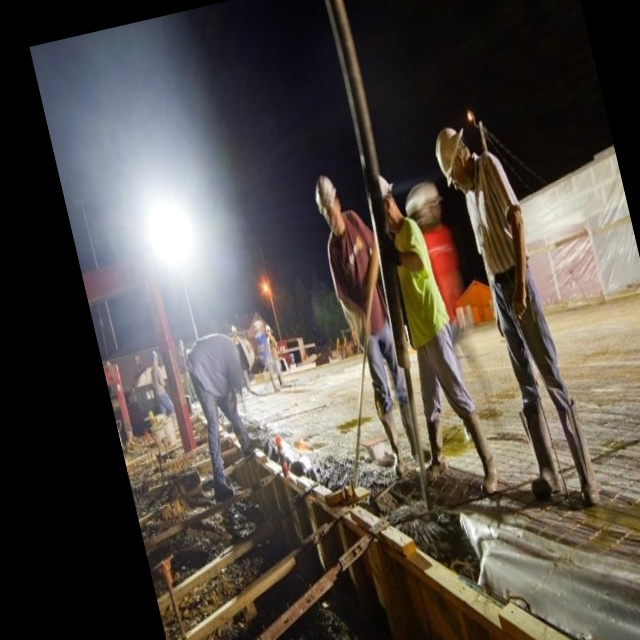Con_Casco: (429, 122, 479, 198)
Sin_Chaleco: (186, 331, 249, 405)
